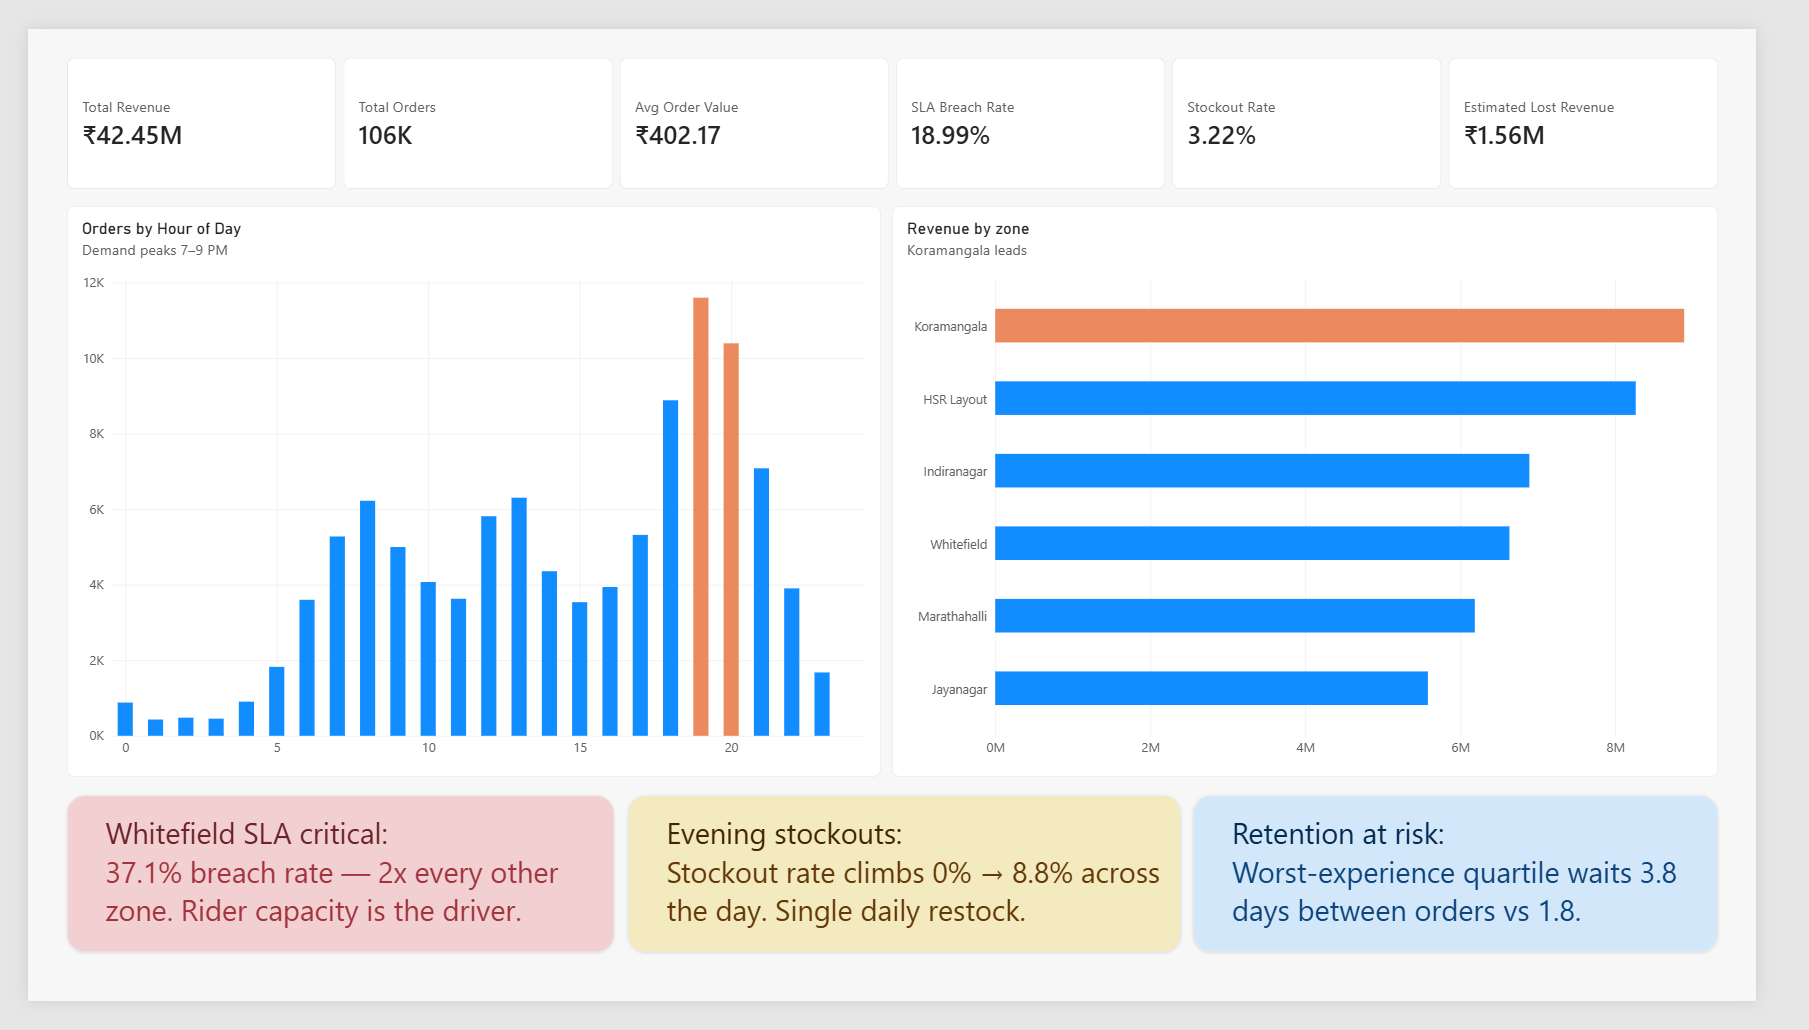

Layout of this report page (visuals, bound fields, positions):
{"tool":"powerbi","page":{"name":"Executive Overview","canvas":[1920,1080],"ordinal":0},"visuals":[{"type":"cardVisual","fields":{"Data":["orders.Total Revenue","orders.Total Orders","orders.Avg Order Value","delivery_events.SLA Breach Rate","order_items.Stockout Rate","order_items.Estimated Lost Revenue"]},"box":[44,32,1834,146],"z":0},{"type":"clusteredColumnChart","title":"Orders by Hour of Day","fields":{"Category":["orders.Order Hour"],"Y":["orders.Total Orders"]},"box":[44,196,904,634],"z":1000},{"type":"clusteredBarChart","title":"Revenue by zone","fields":{"Category":["orders.zone"],"Y":["orders.Total Revenue"]},"box":[960,196,918,634],"z":2000},{"type":"textbox","box":[44,852,608,174],"z":3000},{"type":"textbox","box":[666,852,614,174],"z":4000},{"type":"textbox","box":[1295.7,851.4,582.9,174.3],"z":5000}]}

Visuals, with their boxes in screenshot pixels (x1, y1, x2, y2), scaled from the page's 1920x1080 canvas onto the 1809x1030 screenshot:
cardVisual - orders.Total Revenue x orders.Total Orders: box=[41, 31, 1769, 170]
"Orders by Hour of Day" clusteredColumnChart: box=[41, 187, 893, 792]
"Revenue by zone" clusteredBarChart: box=[904, 187, 1769, 792]
textbox: box=[41, 813, 614, 978]
textbox: box=[627, 813, 1206, 978]
textbox: box=[1221, 812, 1770, 978]
